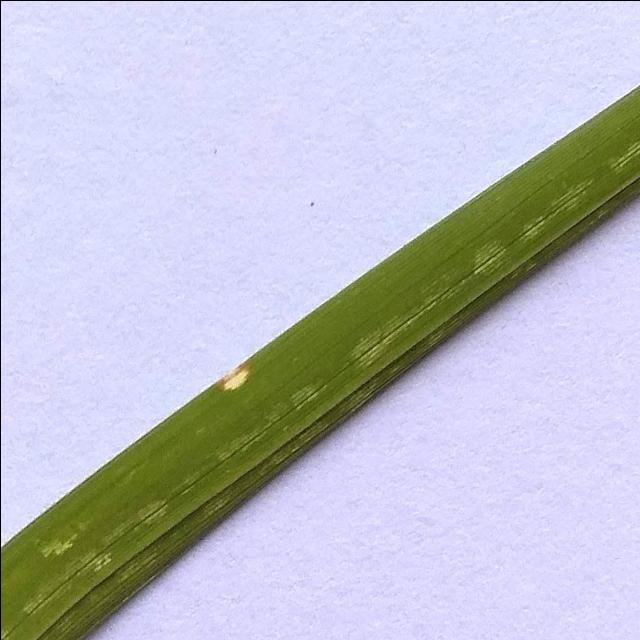Leaf_Blast: (213, 351, 263, 417)
